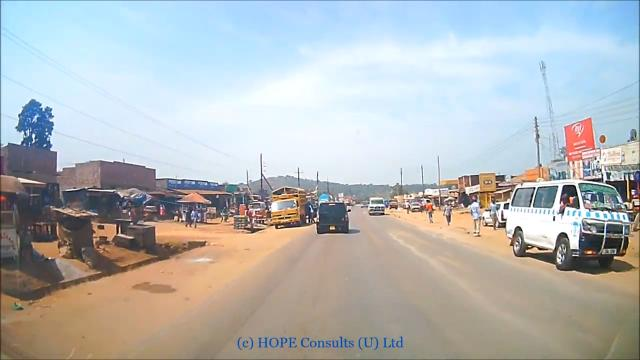car: (483, 202, 509, 227), (388, 199, 398, 210), (360, 202, 368, 208)
truck: (270, 186, 312, 229), (368, 196, 386, 216)
van: (507, 179, 629, 267), (316, 201, 350, 234), (410, 201, 422, 213), (421, 198, 434, 209)
